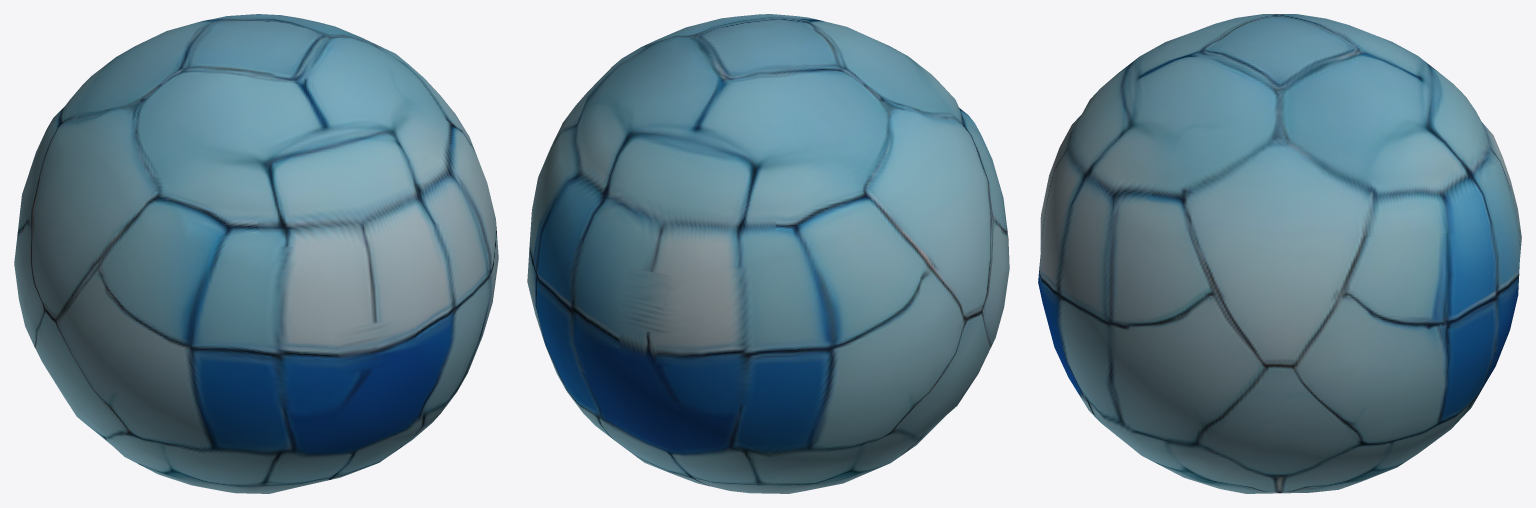
File: 10-6493481-Blue-Soccer-Ball-model-pack.glb
The picture shows the model from 3 angles, left to right: view 1: azimuth 30°, elevation 25°; view 2: azimuth 150°, elevation 25°; view 3: azimuth 270°, elevation 25°; orthographic projection.
Parts seen in each view (by area): view 1: Retopo_neural_node_a015ddd4-1a65-47e0-90d8-13dcd7d25e20; view 2: Retopo_neural_node_a015ddd4-1a65-47e0-90d8-13dcd7d25e20; view 3: Retopo_neural_node_a015ddd4-1a65-47e0-90d8-13dcd7d25e20.
Part boxes in pixels (left/top/right/bottom): Retopo_neural_node_a015ddd4-1a65-47e0-90d8-13dcd7d25e20: left=14, top=14, right=498, bottom=493; Retopo_neural_node_a015ddd4-1a65-47e0-90d8-13dcd7d25e20: left=527, top=14, right=1009, bottom=493; Retopo_neural_node_a015ddd4-1a65-47e0-90d8-13dcd7d25e20: left=1038, top=14, right=1521, bottom=493.
Size of the model in its own units: 0.9457 by 0.9372 by 0.9494.
1 material, 1 textured.
